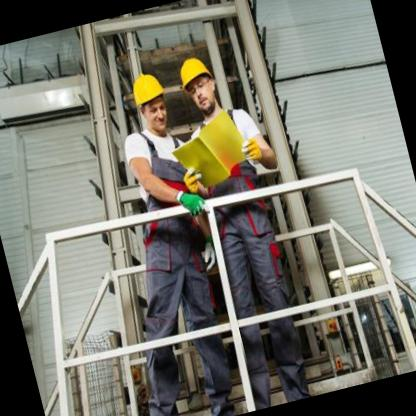helmet: (125, 65, 180, 140), (172, 48, 226, 117)
